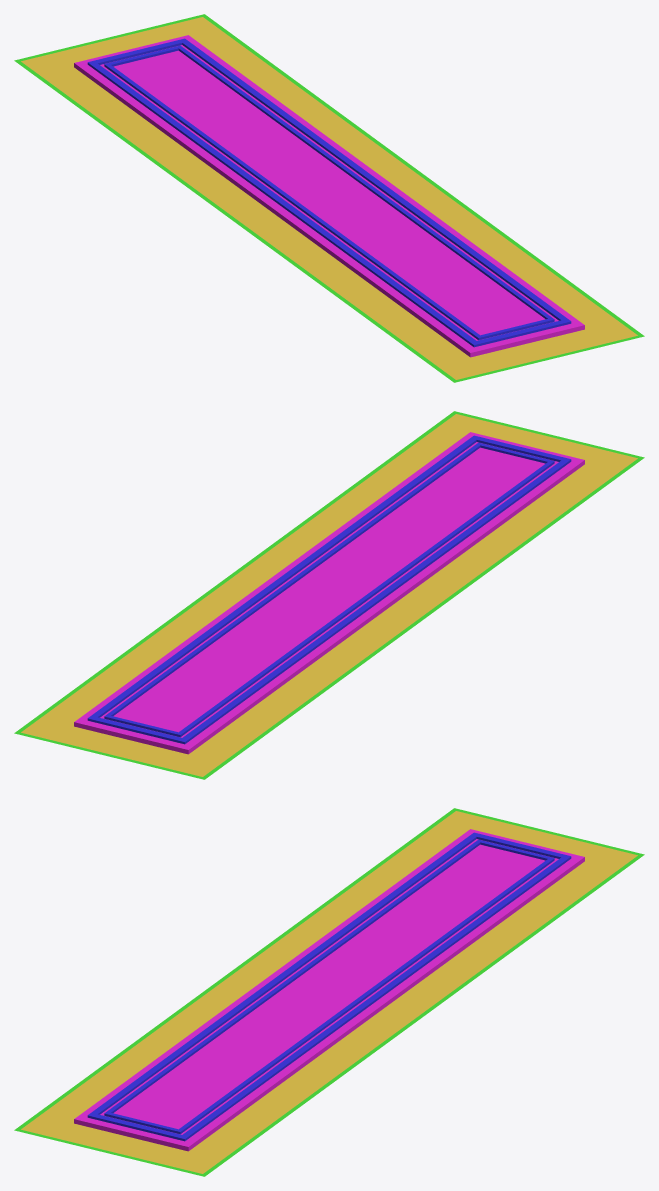
File: Floor_013_C_04.fbx
The picture shows the model from 3 angles, top to bottom: view 1: azimuth 30°, elevation 25°; view 2: azimuth 150°, elevation 25°; view 3: azimuth 330°, elevation 25°; orthographic projection.
Visible parts, largest first — view 1: Floor_013_C_04; view 2: Floor_013_C_04; view 3: Floor_013_C_04.
Boxes of the visible parts, x1=… form: Floor_013_C_04: x1=14, y1=14, x2=644, y2=382; Floor_013_C_04: x1=14, y1=411, x2=644, y2=779; Floor_013_C_04: x1=14, y1=808, x2=644, y2=1176.
Bounding box in the file's own units: 114 × 3.81 × 457.
